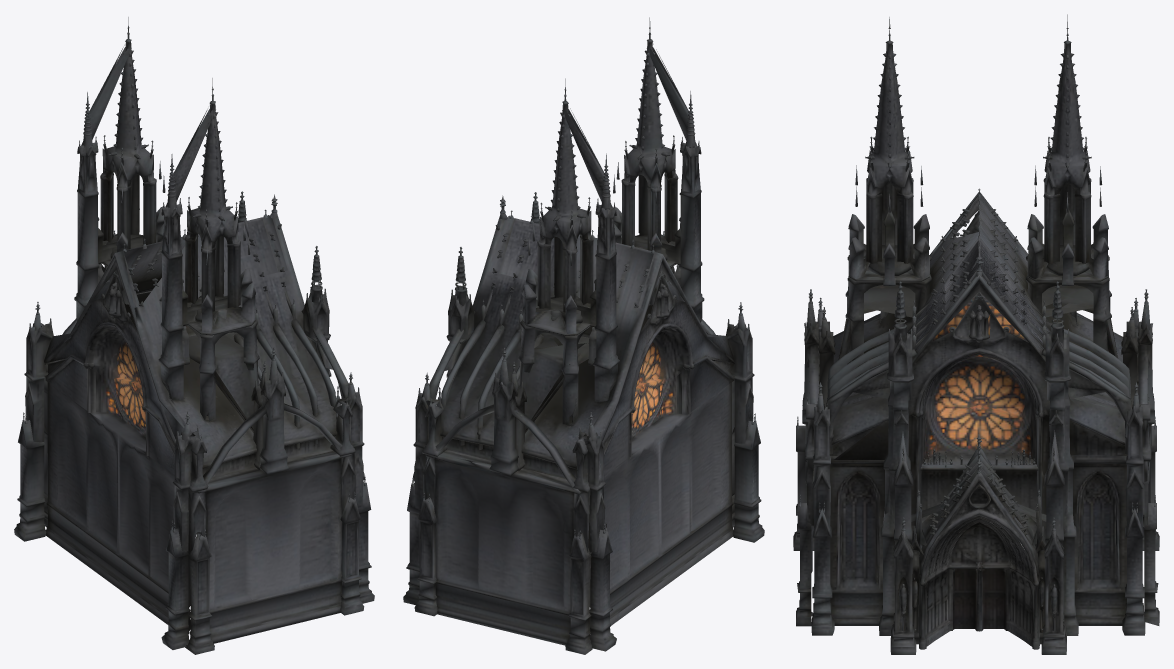
File: cathedral.glb
3 renders of one model, left to right at view 1: azimuth 30°, elevation 25°; view 2: azimuth 150°, elevation 25°; view 3: azimuth 270°, elevation 25°, orthographic. The views are drawn at different scales.
Visible parts, largest first — view 1: tripo_node_c18324d5-0906-4121-9b0c-a9001df69b2a; view 2: tripo_node_c18324d5-0906-4121-9b0c-a9001df69b2a; view 3: tripo_node_c18324d5-0906-4121-9b0c-a9001df69b2a.
Boxes of the visible parts, <box> form: tripo_node_c18324d5-0906-4121-9b0c-a9001df69b2a: <box>14,17,374,654</box>; tripo_node_c18324d5-0906-4121-9b0c-a9001df69b2a: <box>403,17,764,654</box>; tripo_node_c18324d5-0906-4121-9b0c-a9001df69b2a: <box>793,14,1159,654</box>.
Size of the model in its own units: 0.4634 by 0.9995 by 0.5923.
1 material, 1 textured.
